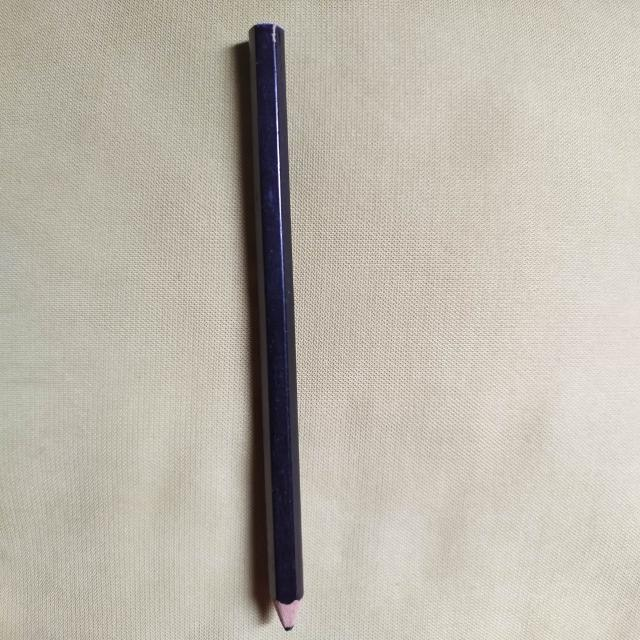pencil: (248, 22, 302, 630)
